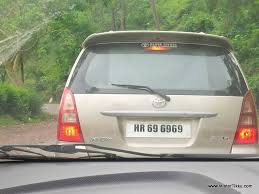Number plates: (120, 117, 196, 141)
